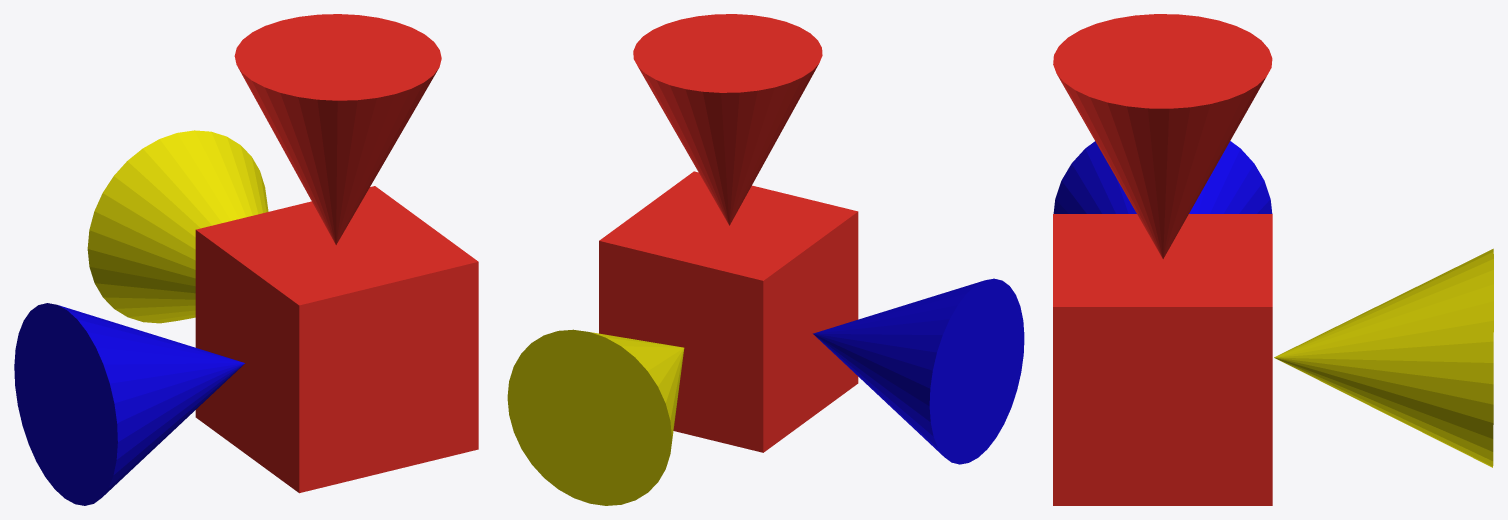
Rendered from rotation gizmo.fbx.
The picture shows the model from 3 angles, left to right: view 1: azimuth 30°, elevation 25°; view 2: azimuth 150°, elevation 25°; view 3: azimuth 270°, elevation 25°; orthographic projection. The views are drawn at different scales.
Visible parts, largest first — view 1: UnityExport; view 2: UnityExport; view 3: UnityExport.
Part boxes in pixels (x1,y1,x2,y2): UnityExport: [14, 14, 478, 505]; UnityExport: [507, 14, 1024, 505]; UnityExport: [1053, 14, 1493, 505].
Size of the model in its own units: 72.96 by 72.52 by 72.4.
